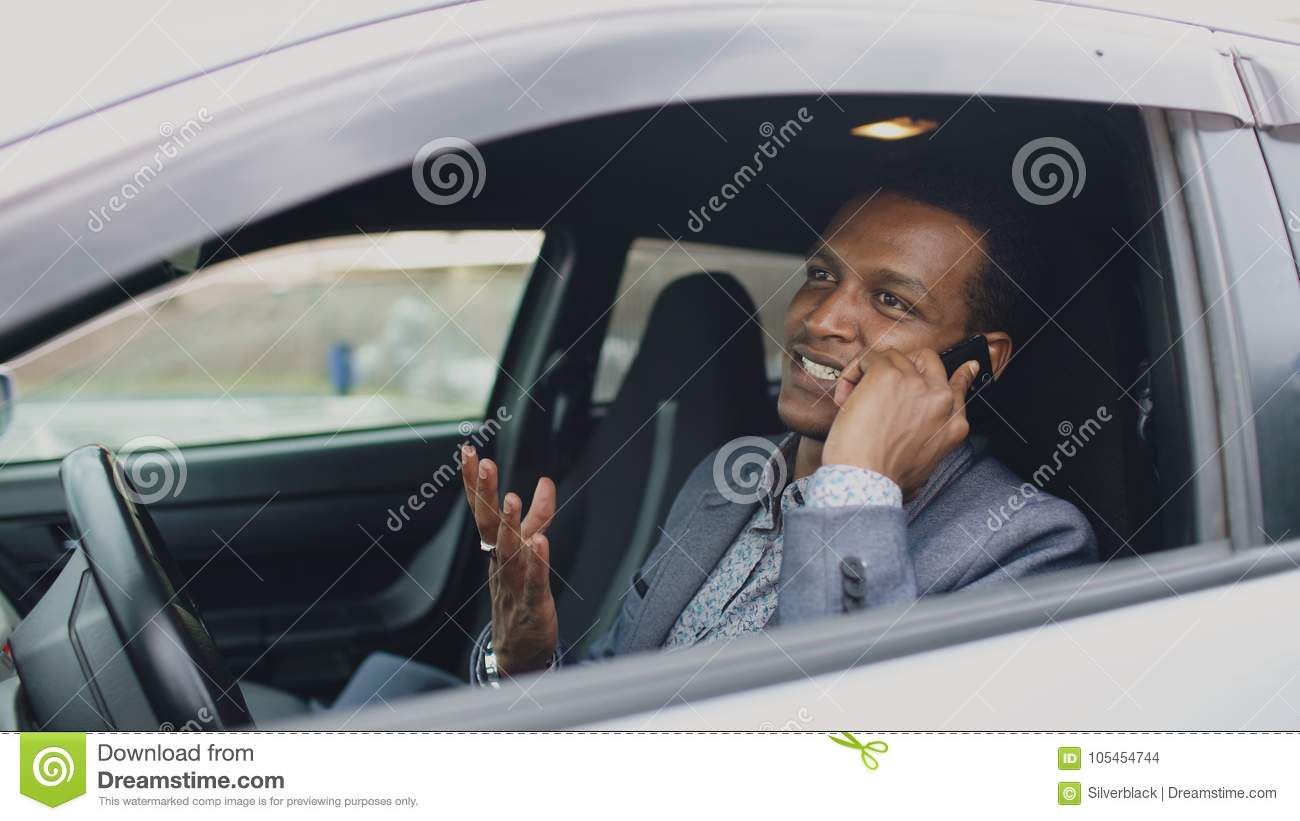phone: (914, 335, 999, 428)
talk: (774, 248, 998, 513)
